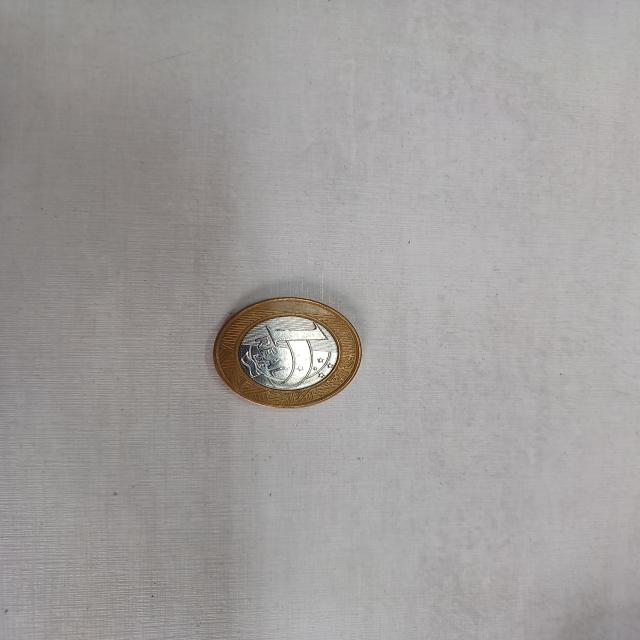1 real: (209, 293, 363, 412)
